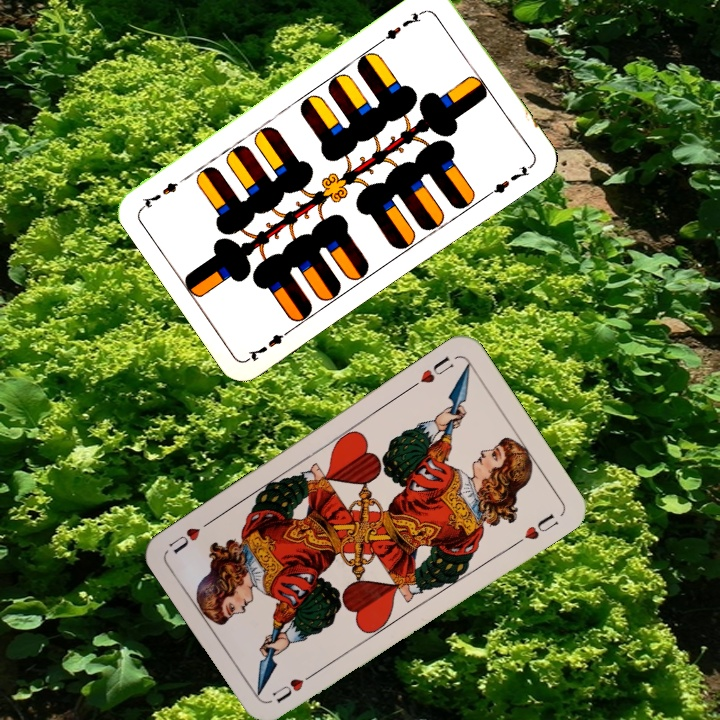E7: (244, 324, 296, 364), (377, 6, 429, 45)
HU: (268, 667, 320, 706), (407, 352, 456, 391)
